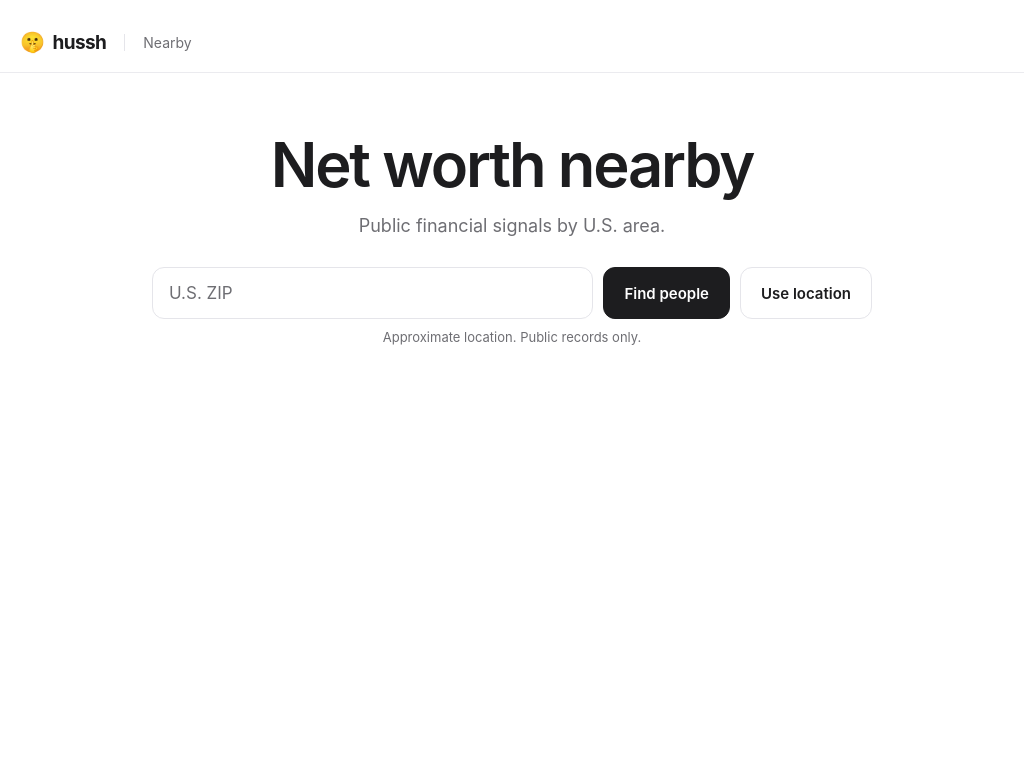
NearbyPeople v4 › uses the additive v4 BFF with Firebase auth and explicit shortfall
The image size is (1024, 780).
In the field named "U.S. ZIP code": point(373, 294) [152,268,593,320], type "32301"
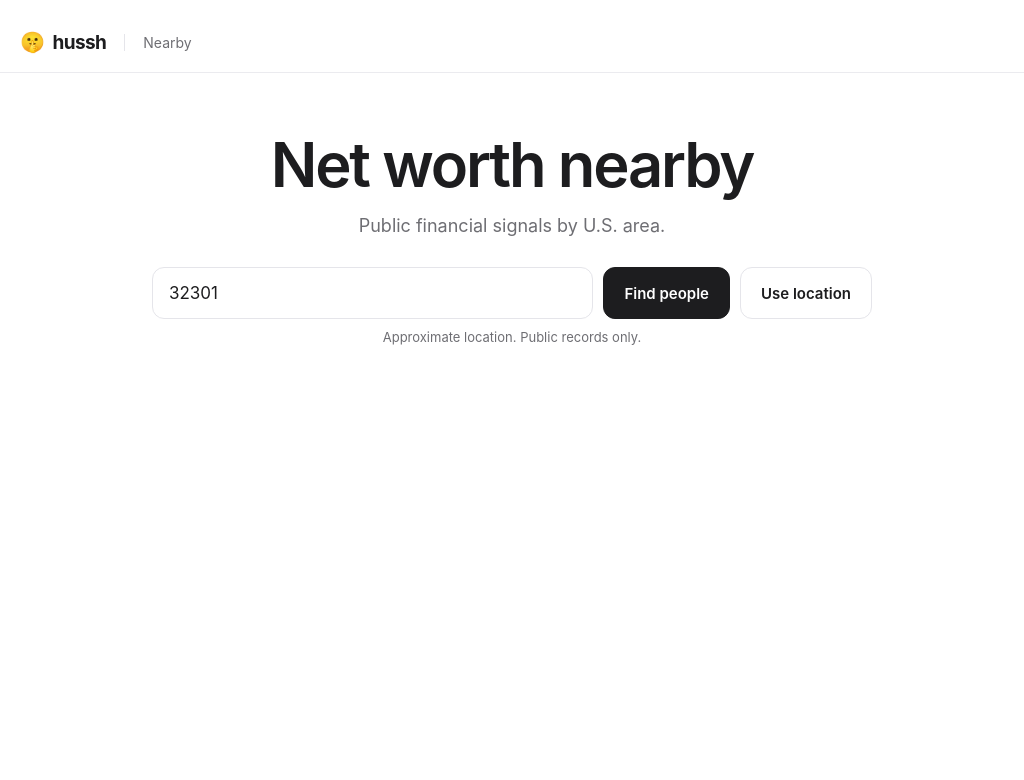
Click the button "Find people": point(667, 294) [603,268,730,320]
(page scrolled)
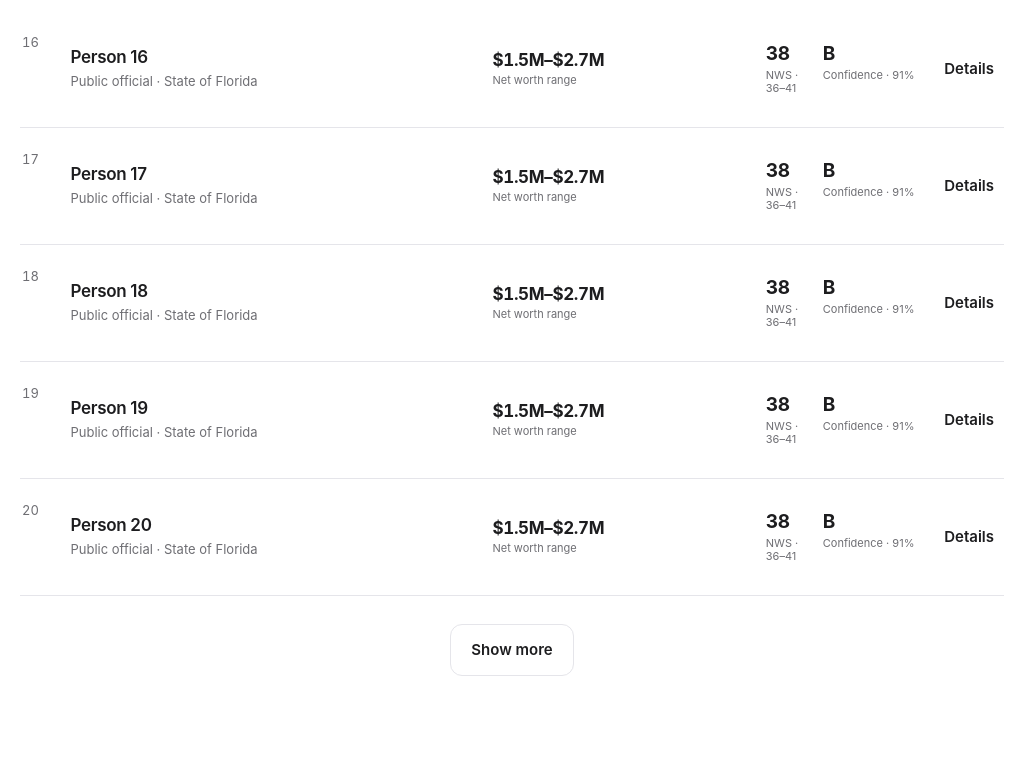
Expected: the text "Person 21" is not shown
Now the heading "Person 20" is shown, box [70,515,152,535]
Click the button "Show more": point(512, 650) [450,624,574,676]
(page scrolled)
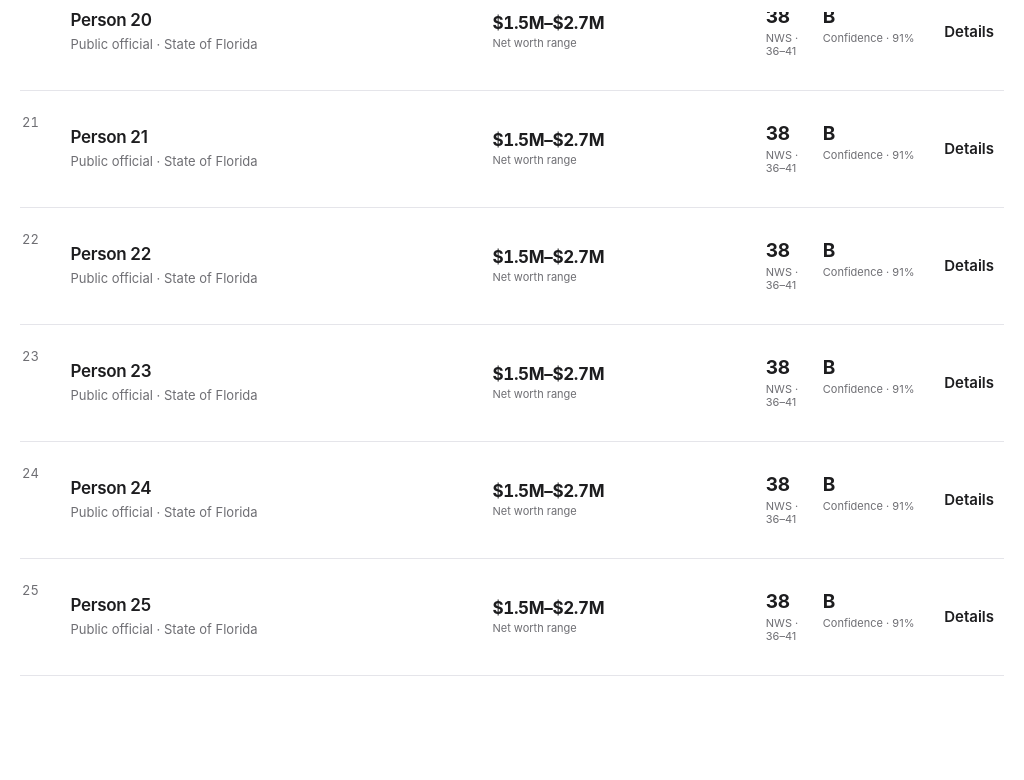
Now the heading "Person 25" is shown, box [70,595,151,615]
